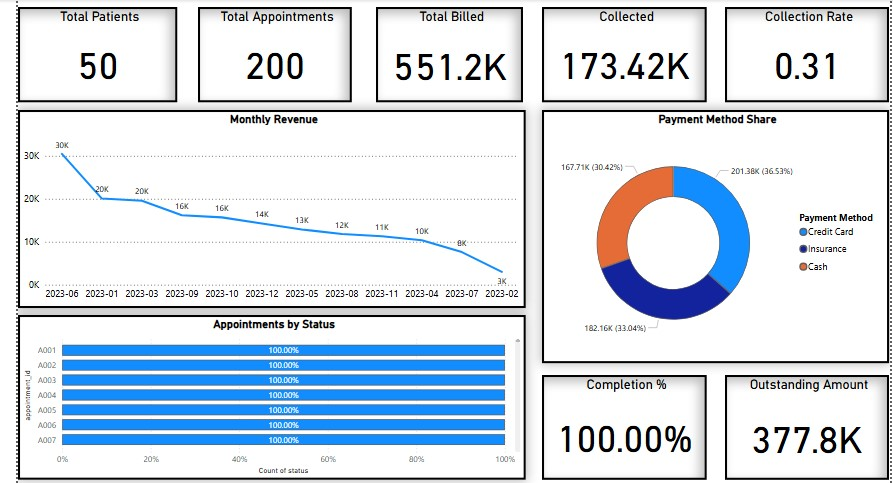

The dashboard page shown, as its layout file describes it:
{"tool":"powerbi","page":{"name":"Overview","canvas":[1280,720],"ordinal":1},"visuals":[{"type":"card","title":"Total Patients","fields":{"Values":["measurse.Total Patients"]},"box":[0,11.8,233.6,139.6],"z":0},{"type":"card","title":"Total Appointments","fields":{"Values":["measurse.Total Appointments"]},"box":[264.5,11.8,226.3,139.6],"z":1000},{"type":"card","title":"Completion %","fields":{"Values":["measurse.Completed Appointments"]},"box":[770,552.5,242.4,154.3],"z":2000},{"type":"card","title":"Total Billed","fields":{"Values":["measurse.Total Billed"]},"box":[526,11.8,216,139.6],"z":3000},{"type":"card","title":"Collected","fields":{"Values":["measurse.Total Collected"]},"box":[770,11.8,242.4,139.6],"z":4000},{"type":"card","title":"Outstanding Amount","fields":{"Values":["measurse.Outstanding Amount"]},"box":[1038.9,552.5,241,154.3],"z":5000},{"type":"card","title":"Collection Rate","fields":{"Values":["measurse.Collection Rate"]},"box":[1038.9,11.8,241,139.6],"z":6000},{"type":"lineChart","title":"Monthly Revenue","fields":{"Category":["Date.YearMonth"],"Y":["measurse.Total Collected"]},"box":[0,163.1,746.4,290.9],"z":7000},{"type":"donutChart","title":"Payment Method Share","fields":{"Category":["billing.payment_method"],"Y":["Sum(billing.amount)"]},"box":[770,163.1,509.9,371.8],"z":8000},{"type":"hundredPercentStackedBarChart","title":"Appointments by Status","fields":{"Y":["CountNonNull(appointments.status)"],"Category":["appointments.appointment_id"]},"box":[0,464.3,746.4,242.4],"z":9000}]}

Visuals, with their boxes in screenshot pixels (x1, y1, x2, y2):
"Total Patients" card: {"x1": 12, "y1": 3, "x2": 172, "y2": 99}
"Total Appointments" card: {"x1": 193, "y1": 3, "x2": 349, "y2": 99}
"Completion %" card: {"x1": 541, "y1": 375, "x2": 707, "y2": 481}
"Total Billed" card: {"x1": 373, "y1": 3, "x2": 521, "y2": 99}
"Collected" card: {"x1": 541, "y1": 3, "x2": 707, "y2": 99}
"Outstanding Amount" card: {"x1": 725, "y1": 375, "x2": 891, "y2": 481}
"Collection Rate" card: {"x1": 725, "y1": 3, "x2": 891, "y2": 99}
"Monthly Revenue" lineChart: {"x1": 12, "y1": 107, "x2": 524, "y2": 307}
"Payment Method Share" donutChart: {"x1": 541, "y1": 107, "x2": 891, "y2": 363}
"Appointments by Status" hundredPercentStackedBarChart: {"x1": 12, "y1": 314, "x2": 524, "y2": 481}
